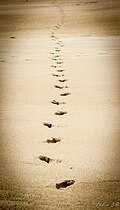human_foot_print: (39, 155, 61, 163), (56, 180, 74, 188), (46, 137, 60, 143), (43, 122, 53, 127), (52, 100, 64, 104), (55, 111, 66, 115), (54, 85, 67, 88), (52, 73, 63, 76), (60, 92, 70, 95), (56, 69, 64, 71), (59, 79, 67, 81), (56, 61, 62, 63), (51, 65, 56, 67)
